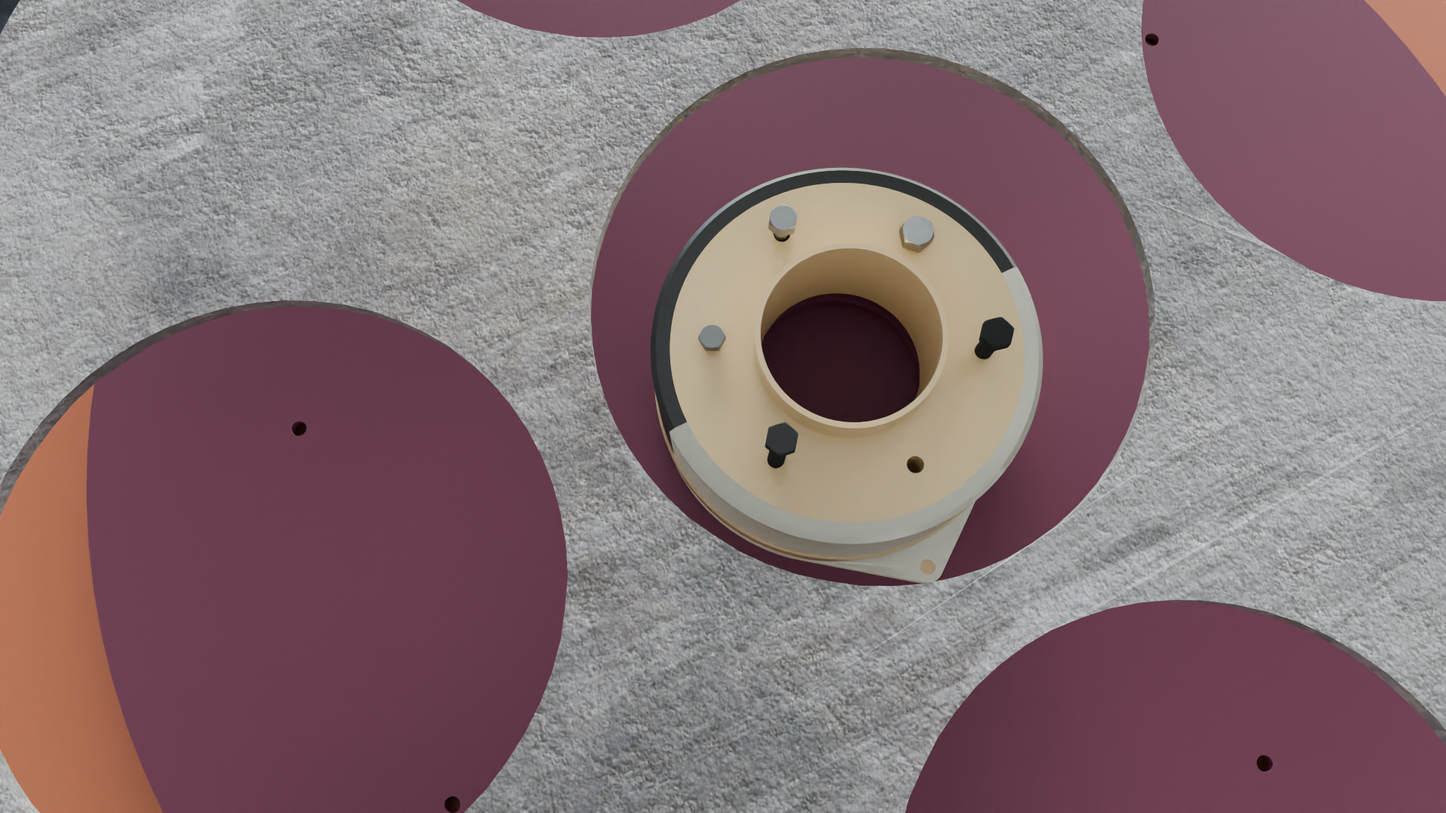bolt: (765, 422, 798, 455), (901, 216, 935, 248), (981, 317, 1014, 349), (769, 205, 798, 233), (698, 324, 726, 349)
